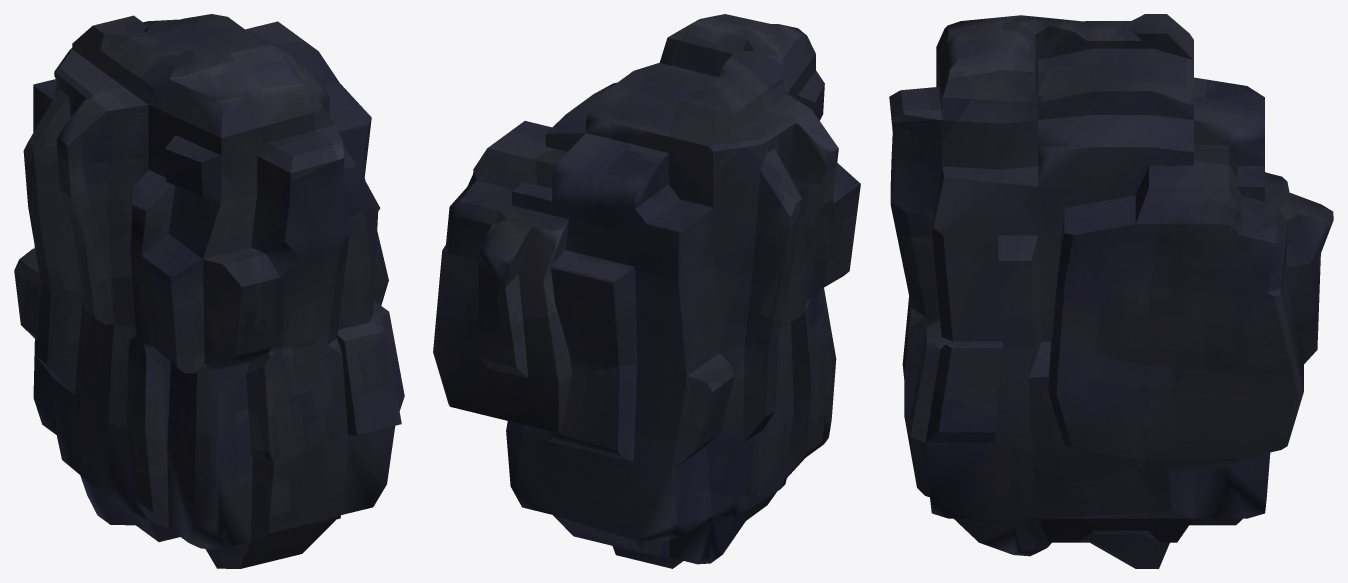
The model's file is cliff2.fbx.
3 views of the same model, side by side, from view 1: azimuth 30°, elevation 25°; view 2: azimuth 150°, elevation 25°; view 3: azimuth 270°, elevation 25° (orthographic). The views are drawn at different scales.
Parts seen in each view (by area): view 1: pCube3; view 2: pCube3; view 3: pCube3.
Part boxes in pixels (left/top/right/bottom): pCube3: left=14, top=14, right=404, bottom=568; pCube3: left=433, top=14, right=860, bottom=568; pCube3: left=889, top=14, right=1333, bottom=568.
Size of the model in its own units: 571 by 892 by 701.
